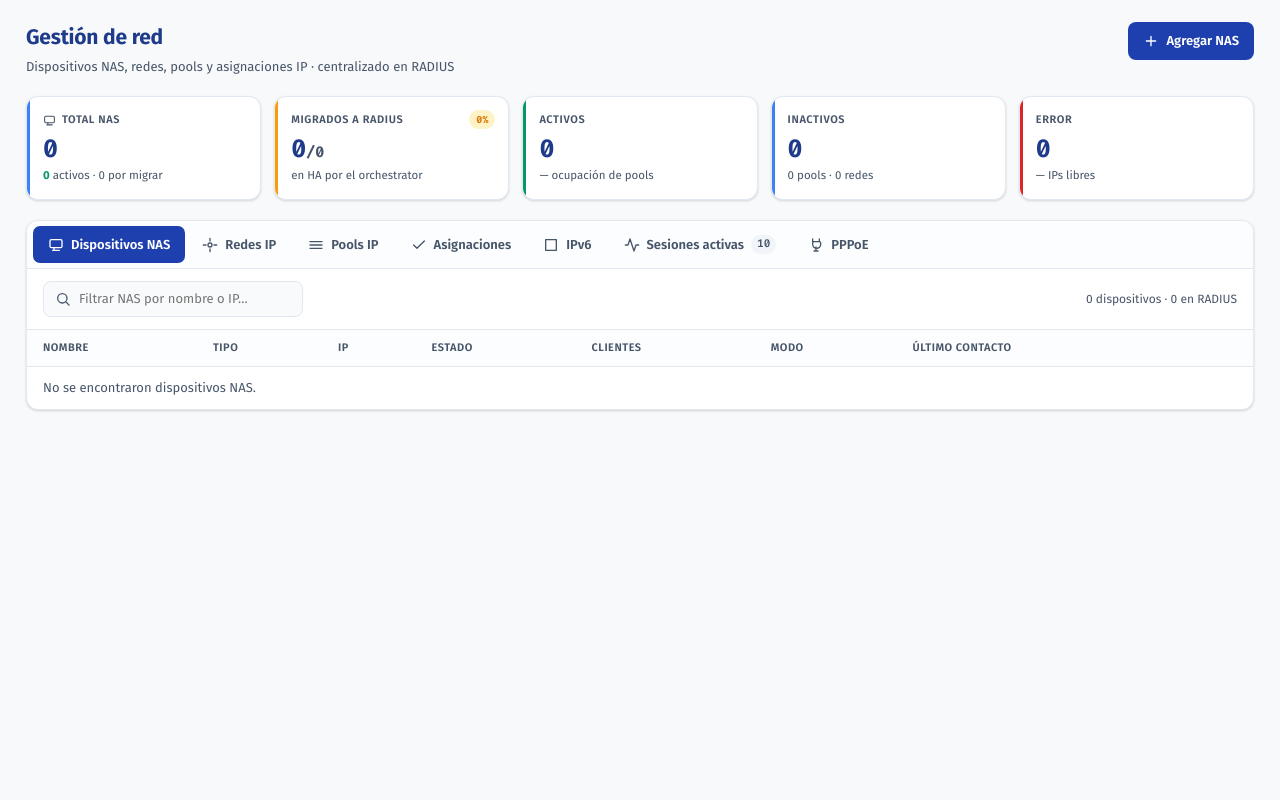
Test: GestionRedPage — W3: badge de estado sin role="status" (evita 50 live regions) › con sesiones cargadas, ninguna fila usa role="status"; el estado sigue siendo accesible via aria-label
Click the button "Sesiones activas 10": x=700, y=245 [608,226,791,263]
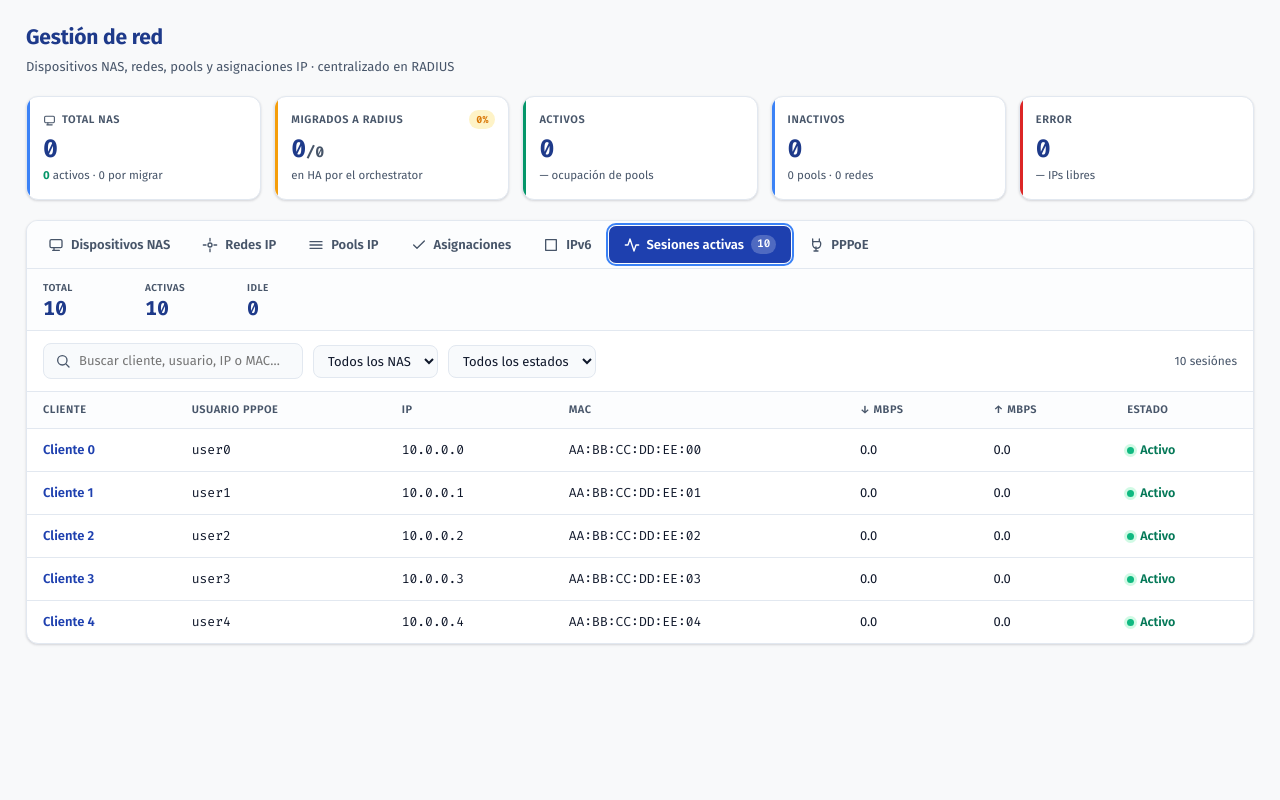
Now the element labelled "Activo" is shown, box [1127,441,1175,460]
